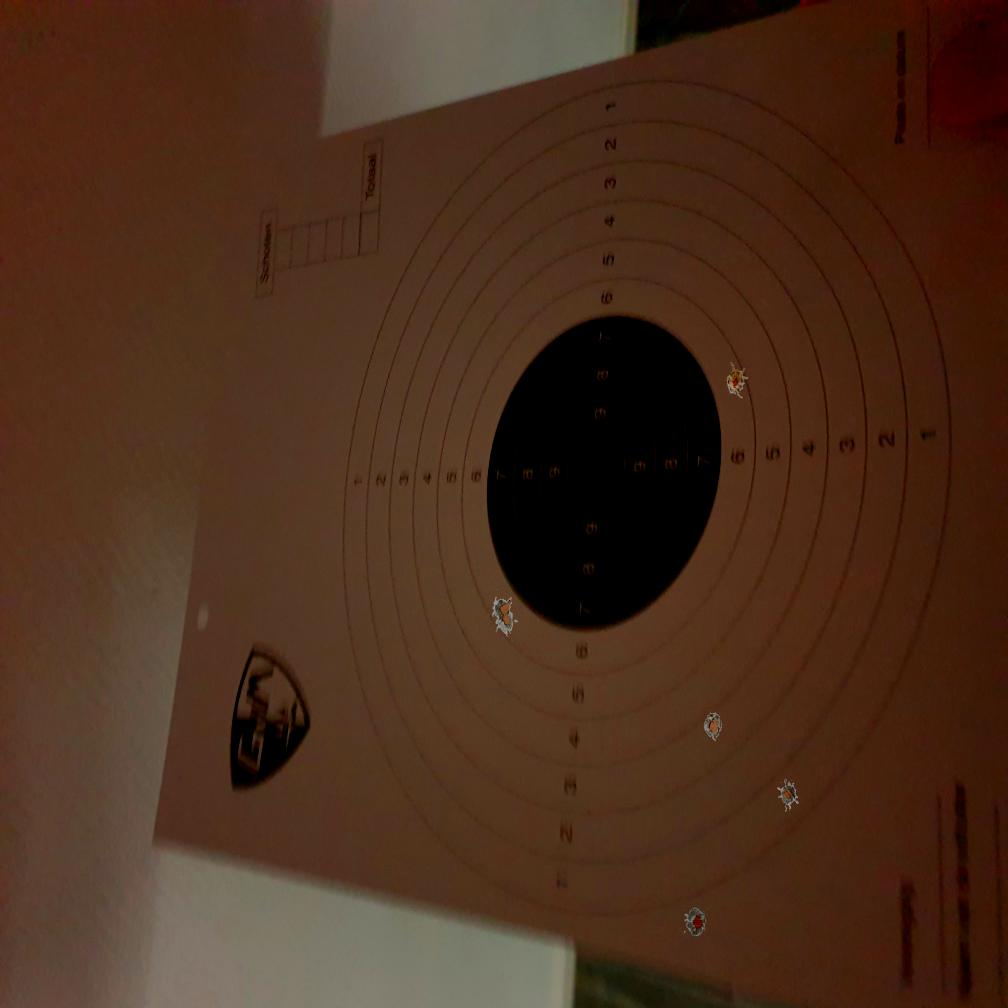0: (684, 906, 707, 937)
1: (777, 779, 798, 812)
3: (704, 712, 722, 742)
6: (726, 361, 748, 399), (494, 615, 516, 636), (491, 596, 512, 617)
Target: (343, 72, 954, 926)
black_contour: (485, 315, 722, 631)
